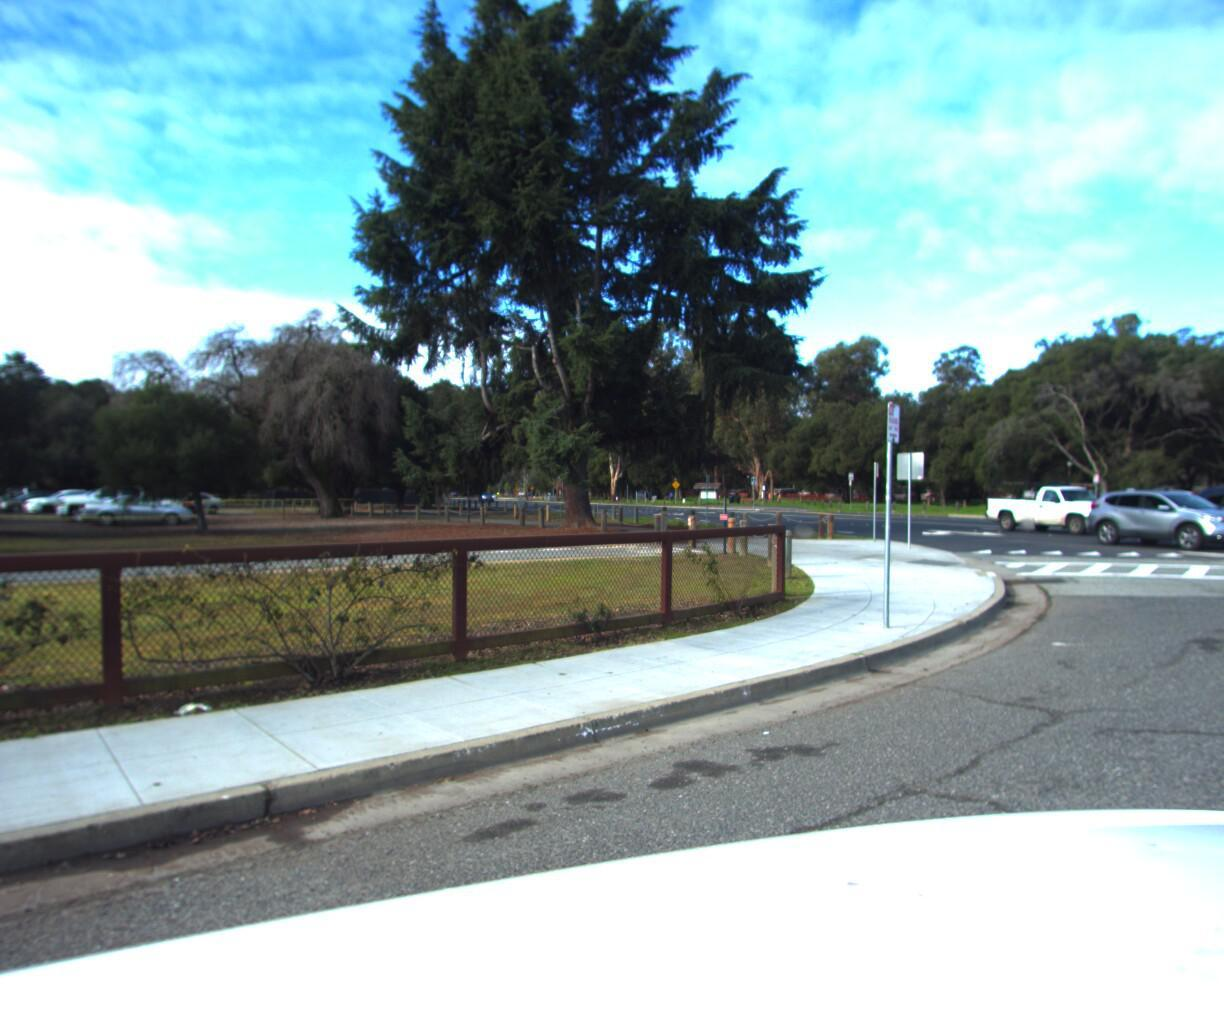car: (978, 466, 1143, 529), (1078, 480, 1224, 547), (1172, 472, 1224, 543)
